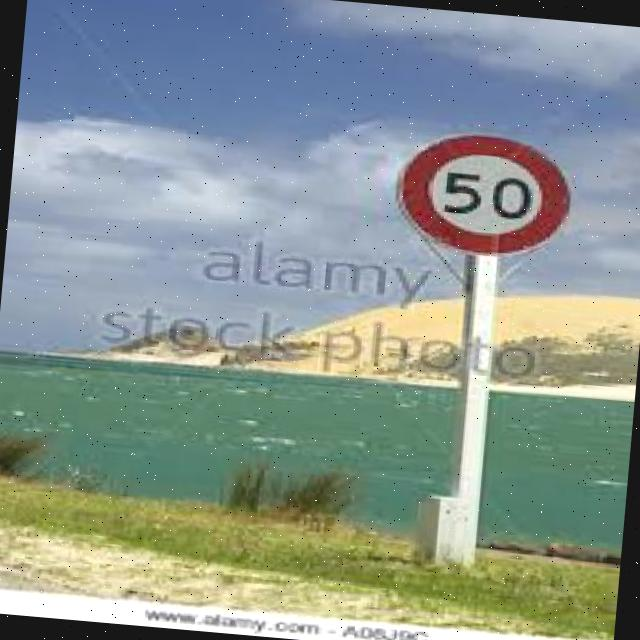Ograniczenie predkosci do 50: (394, 128, 568, 256)
